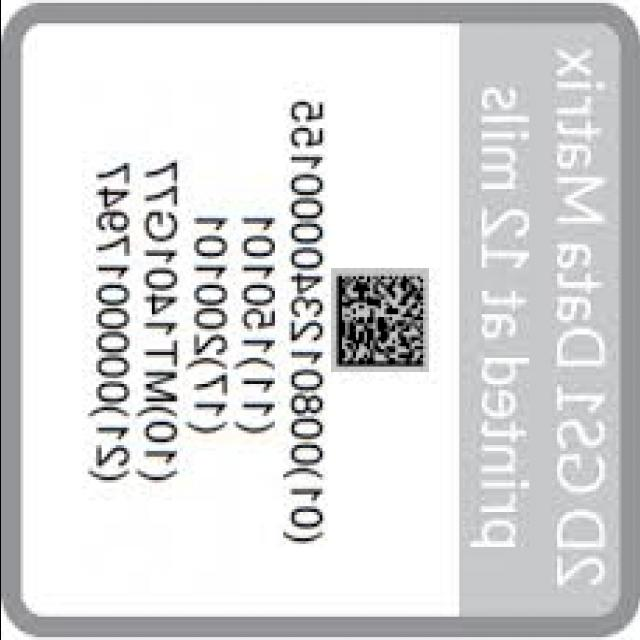DataMatrix: (330, 268, 428, 372)
